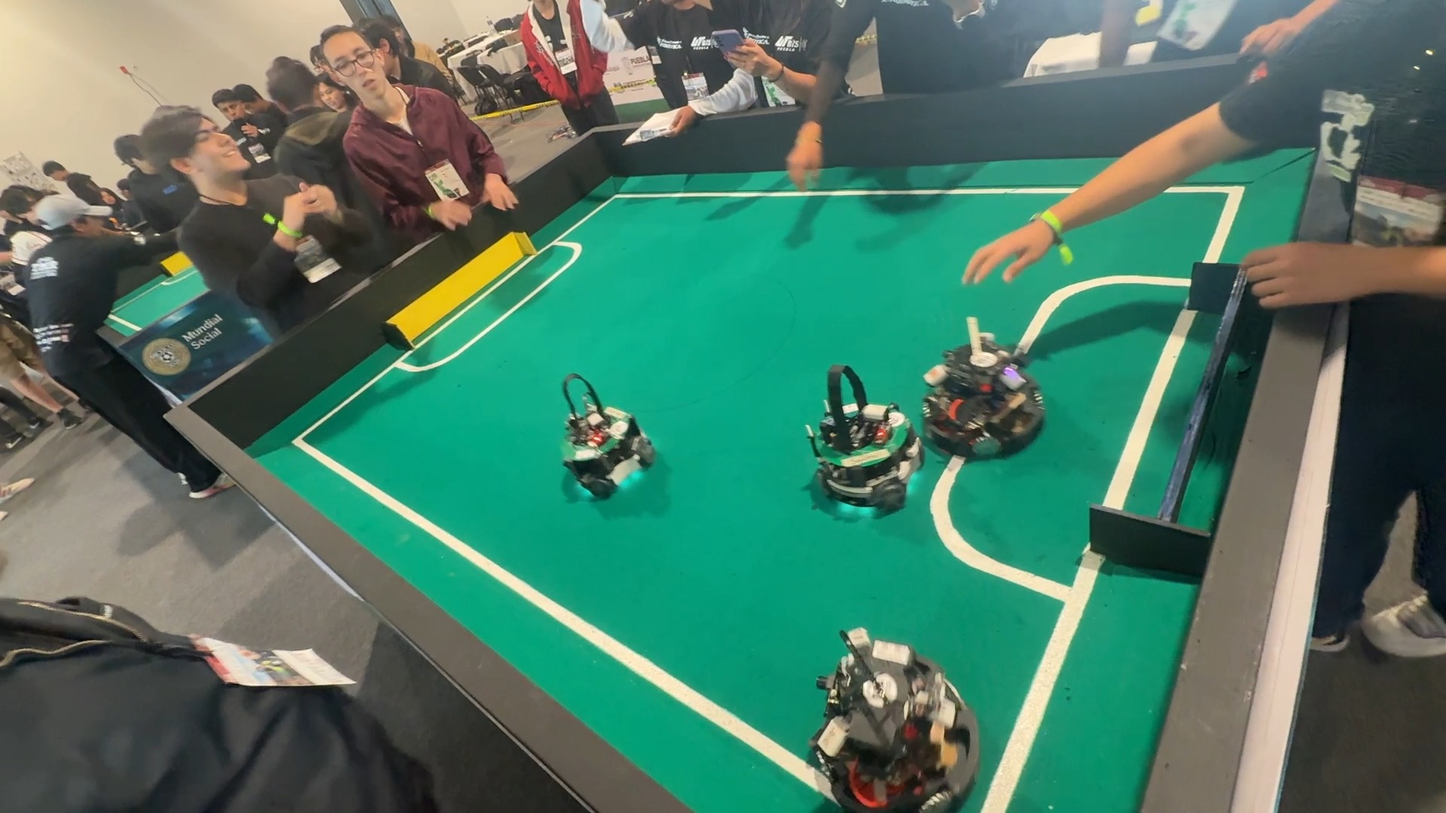Robot: (764, 619, 984, 813), (783, 359, 937, 531), (537, 370, 670, 520), (919, 321, 1052, 462)
